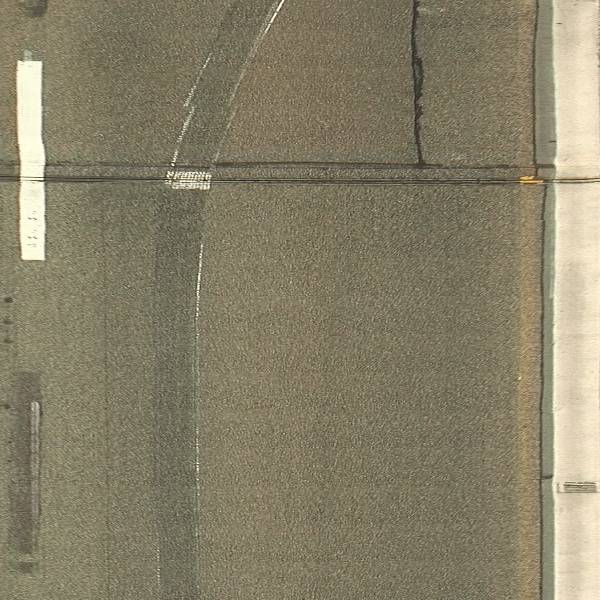road_damage: (27, 153, 600, 192)
